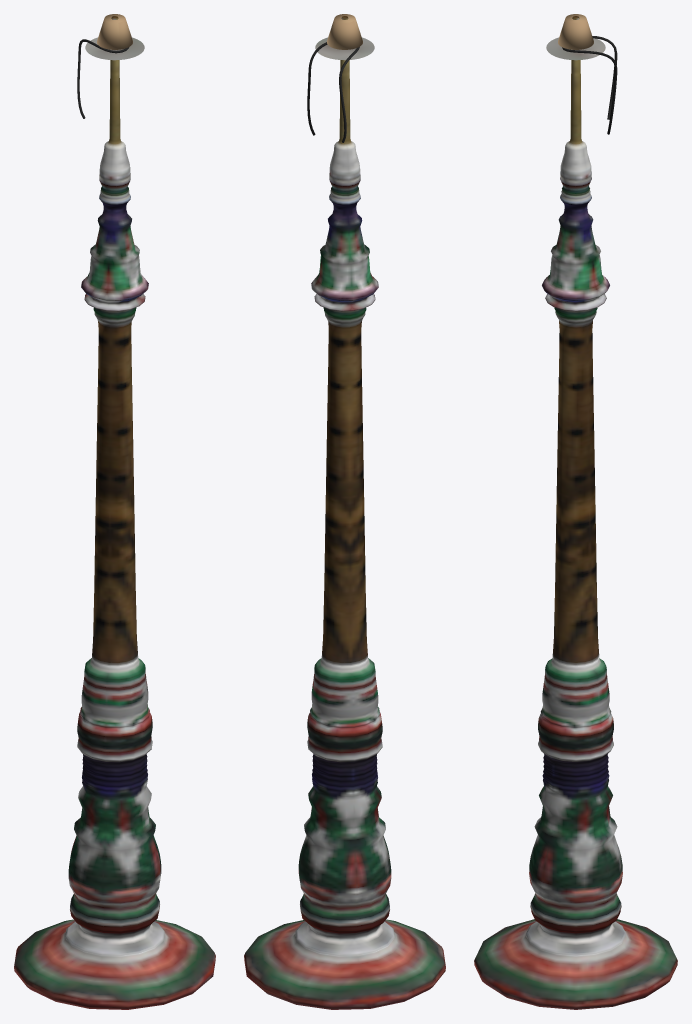
File: scene_serunai.gltf
3 renders of one model, left to right at view 1: azimuth 30°, elevation 25°; view 2: azimuth 150°, elevation 25°; view 3: azimuth 270°, elevation 25°, orthographic.
Parts seen in each view (by area): view 1: Serunai Kelantan (ADR (KLTN) CHEISA 17); view 2: Serunai Kelantan (ADR (KLTN) CHEISA 17); view 3: Serunai Kelantan (ADR (KLTN) CHEISA 17).
Boxes of the visible parts, <box> form: Serunai Kelantan (ADR (KLTN) CHEISA 17): <box>14,14,215,1009</box>; Serunai Kelantan (ADR (KLTN) CHEISA 17): <box>244,14,445,1009</box>; Serunai Kelantan (ADR (KLTN) CHEISA 17): <box>474,14,677,1009</box>.
Size of the model in its own units: 9.83 by 50.75 by 9.83.
2 materials, 2 textured.
